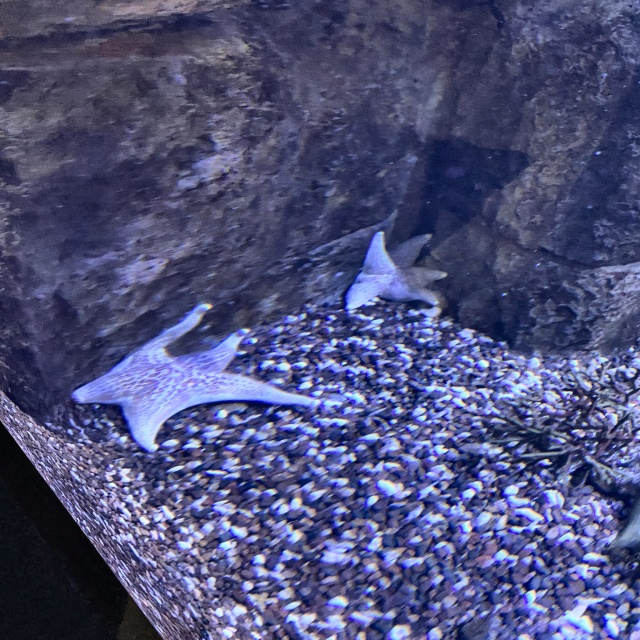starfish: (74, 304, 320, 451), (346, 231, 448, 308)
